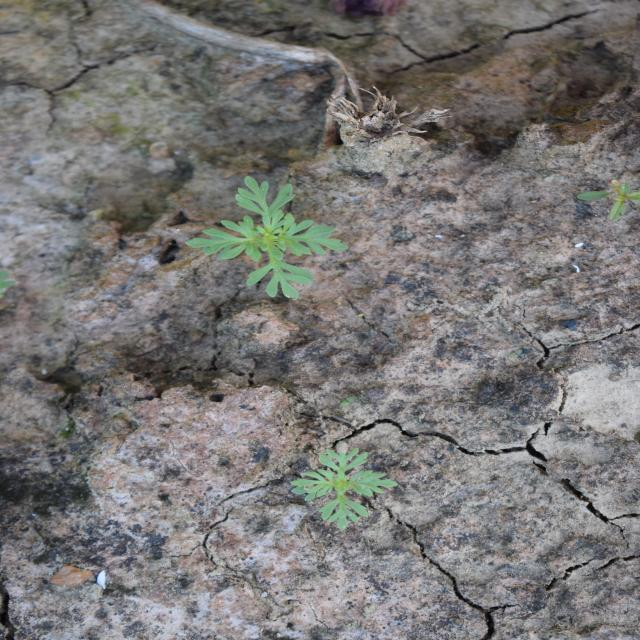Ragweed: (182, 173, 350, 301), (287, 440, 399, 533)
